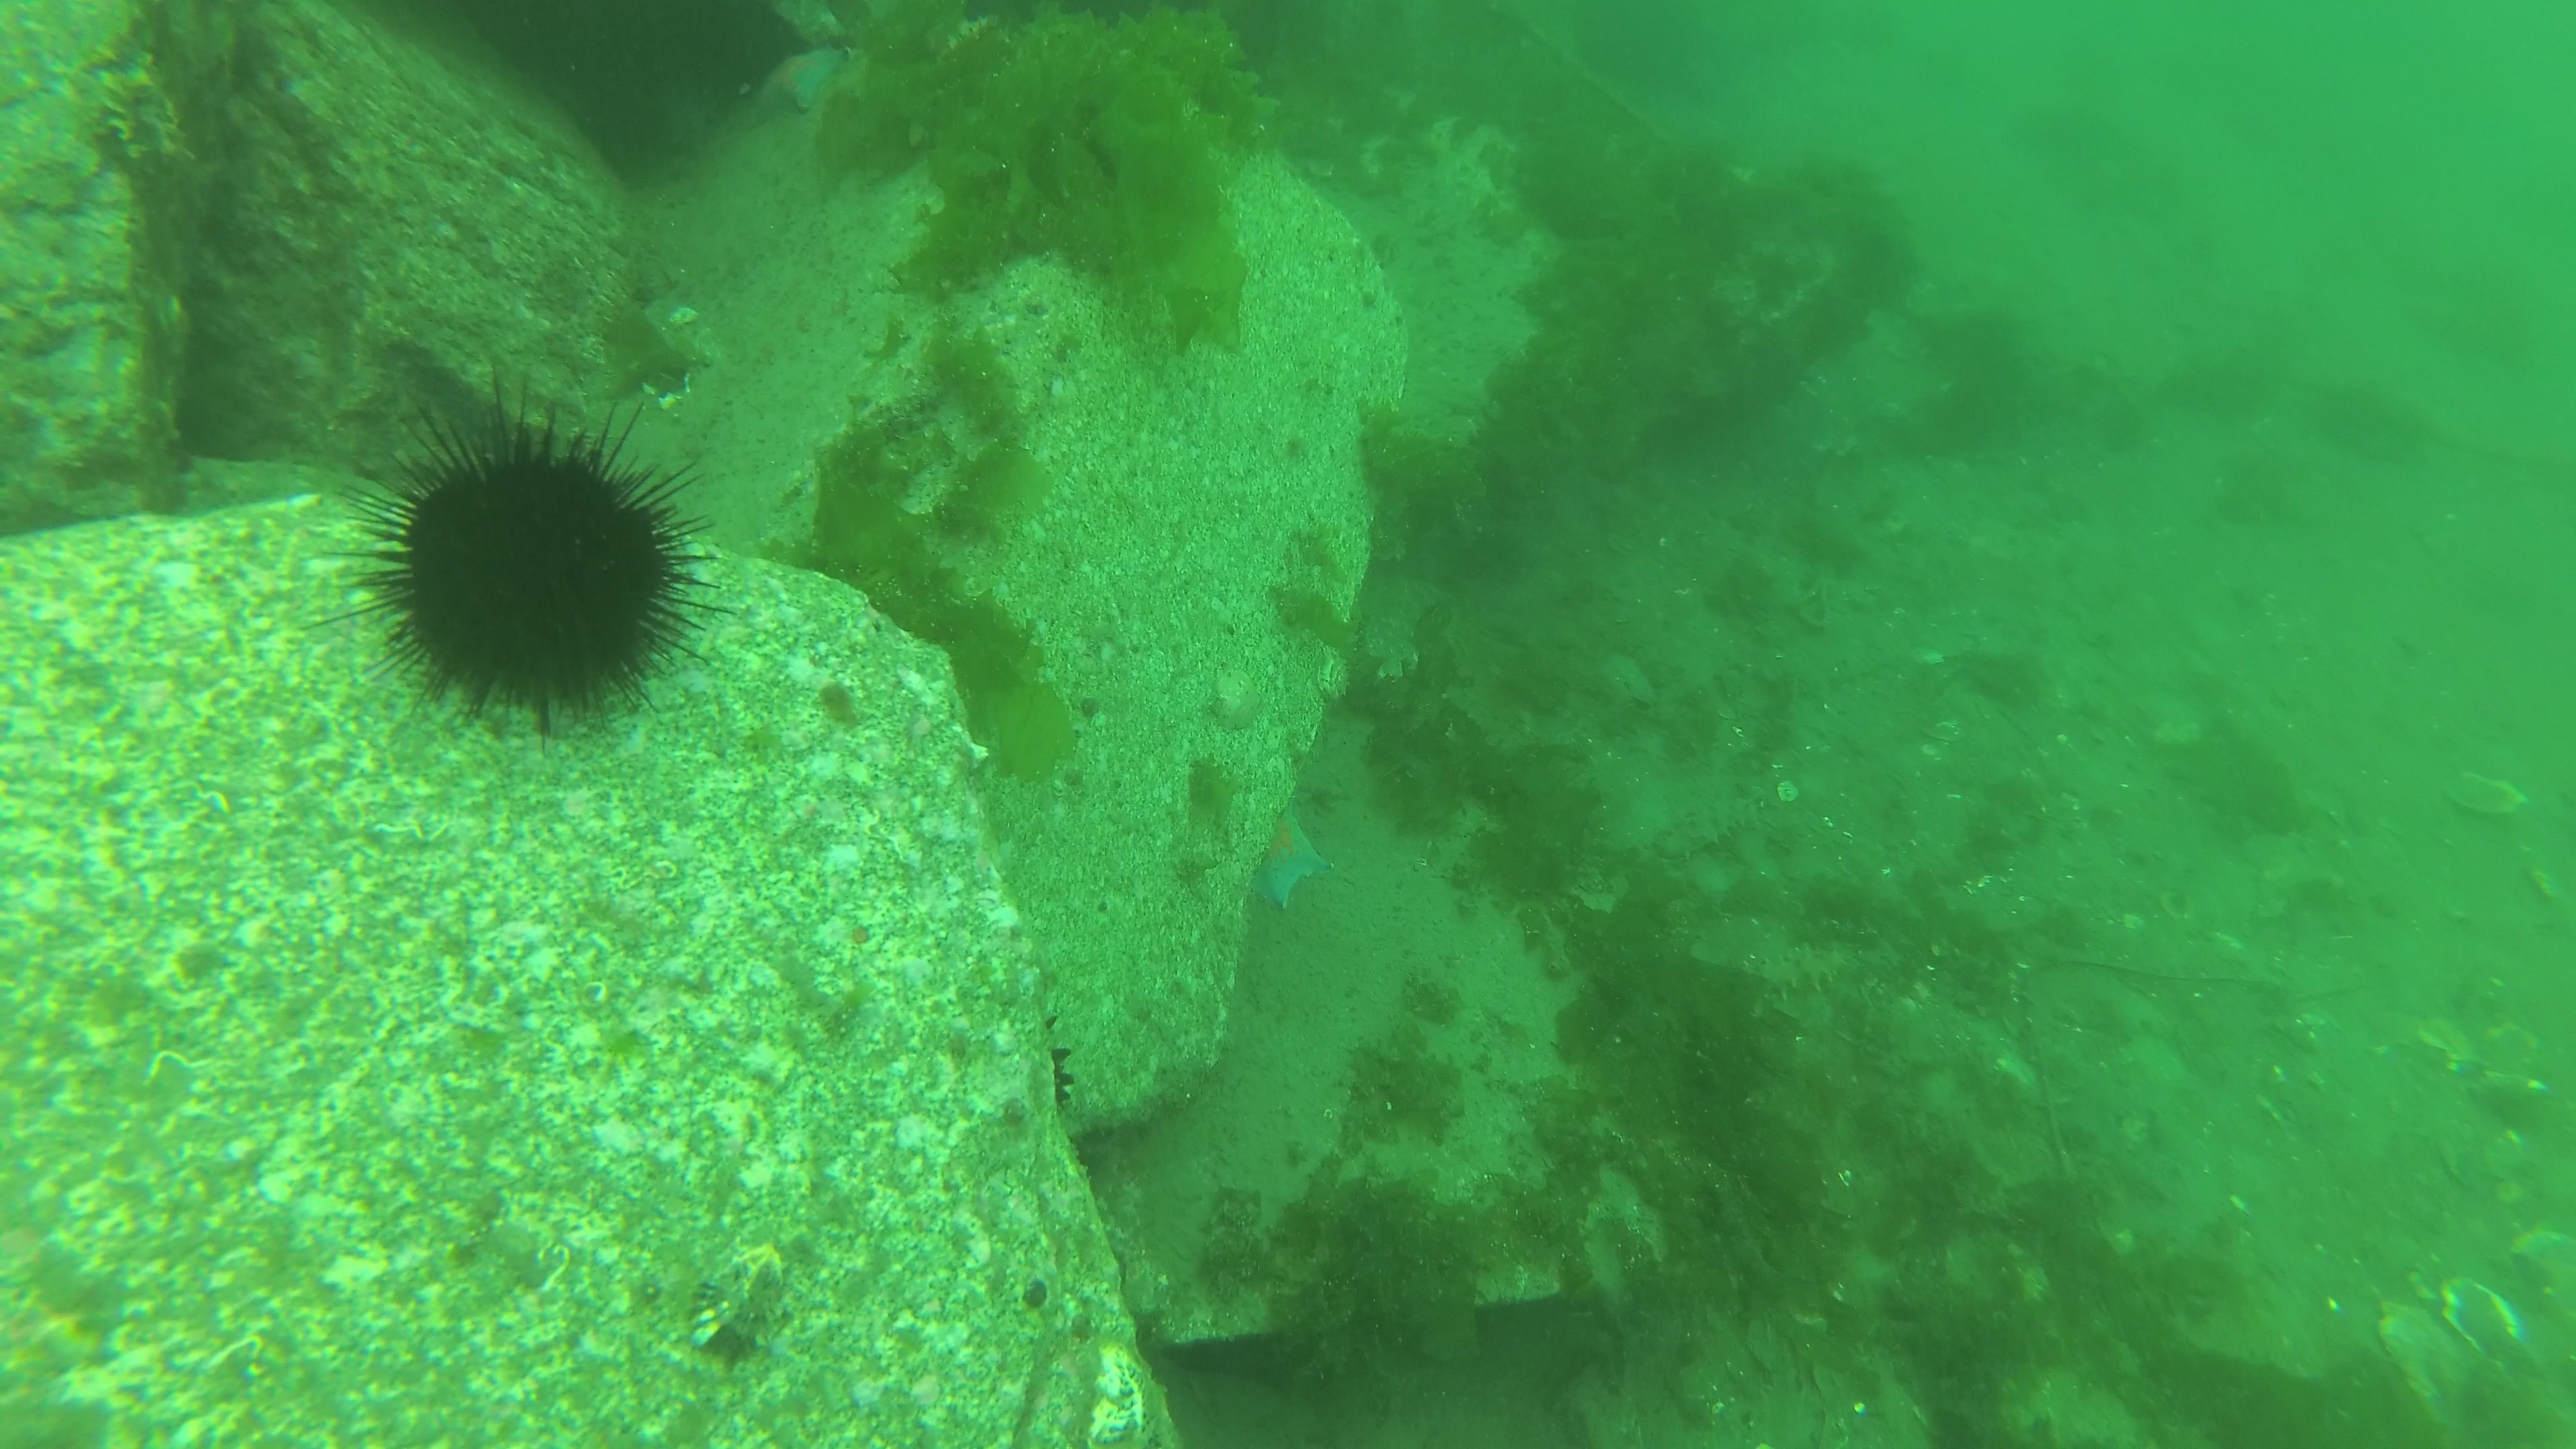echinus: (331, 366, 755, 764)
holothurian: (1654, 789, 1767, 863), (1741, 941, 1856, 1007)
starfish: (1244, 801, 1336, 918), (752, 39, 849, 119)
